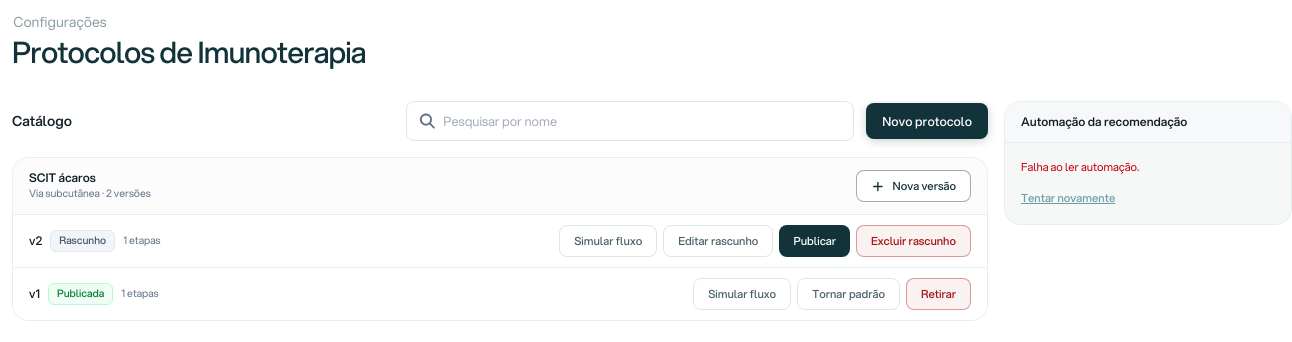
decisão por código de erro › erro de leitura da automação não vira "carregando" permanente
Expected: the text "Falha ao ler automação." is shown, [1021,159,1139,175]
Click the button "Tentar novamente".
click(1068, 198)  # box [1021,190,1115,207]
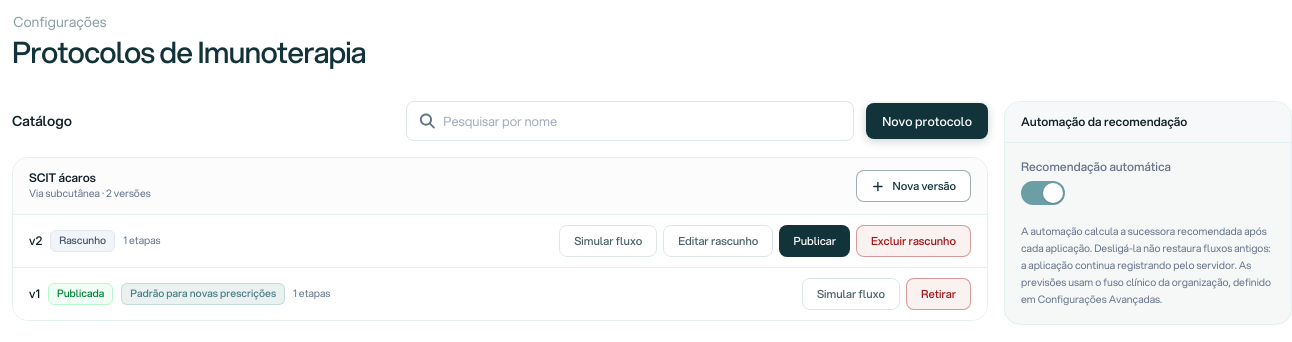
Now the switch named "recomendação automática" is shown, box [1021,181,1065,205]
